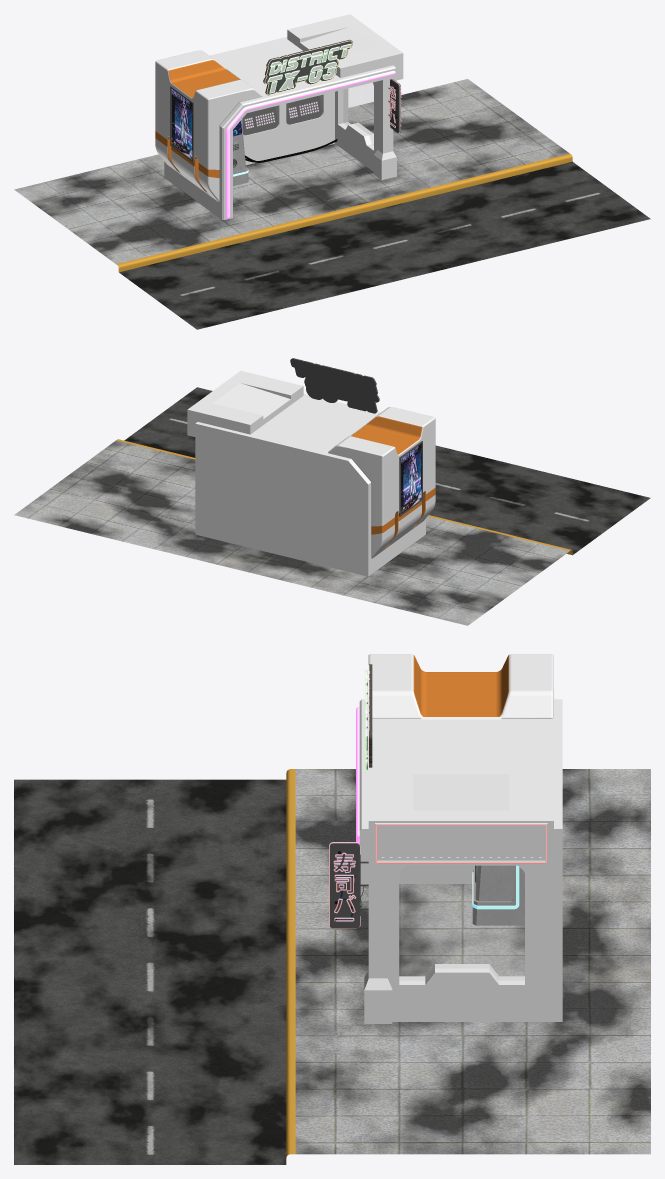
The model's file is cyberpunk_station.glb.
The picture shows the model from 3 angles, top to bottom: view 1: azimuth 30°, elevation 25°; view 2: azimuth 150°, elevation 25°; view 3: azimuth 270°, elevation 25°; orthographic projection. The views are drawn at different scales.
Parts seen in each view (by area): view 1: Plane, Plane.005, Plane.008, Plane.004, Plane.006, Curve.001, Cube.001, Curve.003, Plane.015, Plane.019, Curve.015, Cube.015 (+3 smaller); view 2: Plane, Plane.005, Plane.008, Plane.004, Curve.001, Cube.001; view 3: Plane, Plane.005, Plane.004, Plane.015, Plane.008, Plane.006, Plane.016, sign_neon_small_vert, Cube.009, Cube.013.
Part boxes in pixels (x1=…): Plane: x1=14, y1=79, x2=650, y2=329; Plane.005: x1=164, y1=37, x2=395, y2=219; Plane.008: x1=155, y1=50, x2=262, y2=201; Plane.004: x1=287, y1=14, x2=403, y2=80; Plane.006: x1=373, y1=77, x2=396, y2=179; Curve.001: x1=263, y1=39, x2=352, y2=95; Cube.001: x1=170, y1=86, x2=193, y2=161; Curve.003: x1=268, y1=43, x2=350, y2=92; Plane.015: x1=343, y1=83, x2=373, y2=143; Plane.019: x1=226, y1=70, x2=395, y2=218; Curve.015: x1=267, y1=44, x2=351, y2=93; Cube.015: x1=286, y1=95, x2=321, y2=124; Plane: x1=14, y1=387, x2=650, y2=625; Plane.005: x1=195, y1=394, x2=425, y2=576; Plane.008: x1=328, y1=407, x2=435, y2=558; Plane.004: x1=187, y1=371, x2=303, y2=436; Curve.001: x1=290, y1=358, x2=379, y2=413; Cube.001: x1=399, y1=441, x2=422, y2=516; Plane: x1=14, y1=769, x2=650, y2=1164; Plane.005: x1=359, y1=699, x2=562, y2=1021; Plane.004: x1=368, y1=767, x2=553, y2=865; Plane.015: x1=400, y1=866, x2=523, y2=979; Plane.008: x1=368, y1=654, x2=553, y2=719; Plane.006: x1=364, y1=865, x2=392, y2=1023; Plane.016: x1=472, y1=865, x2=524, y2=925; sign_neon_small_vert: x1=329, y1=842, x2=368, y2=928; Cube.009: x1=375, y1=823, x2=547, y2=863; Cube.013: x1=375, y1=824, x2=546, y2=863.
Size of the model in its own units: 10.44 by 3.35 by 7.3.
23 materials, 7 textured.
